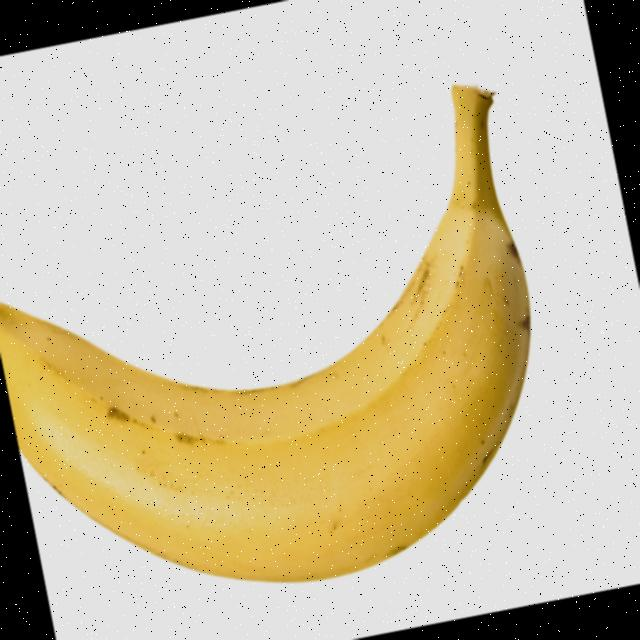Ripe: (0, 35, 616, 640)
